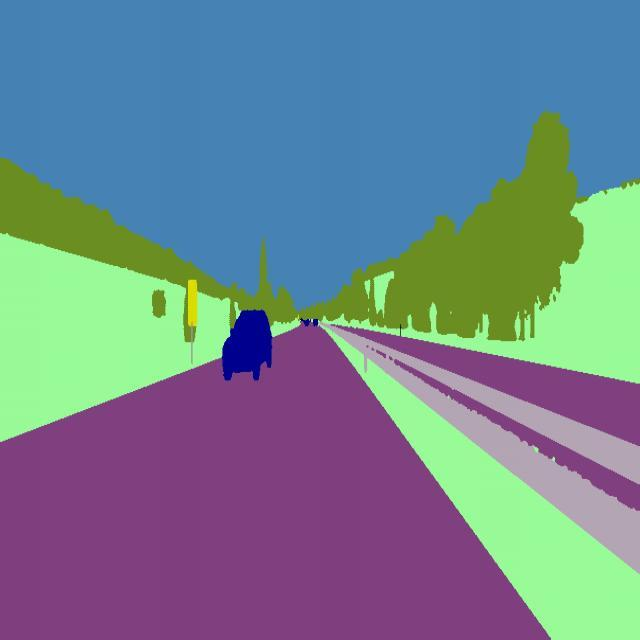safe: (218, 304, 274, 386), (310, 315, 322, 331), (304, 316, 308, 329)
